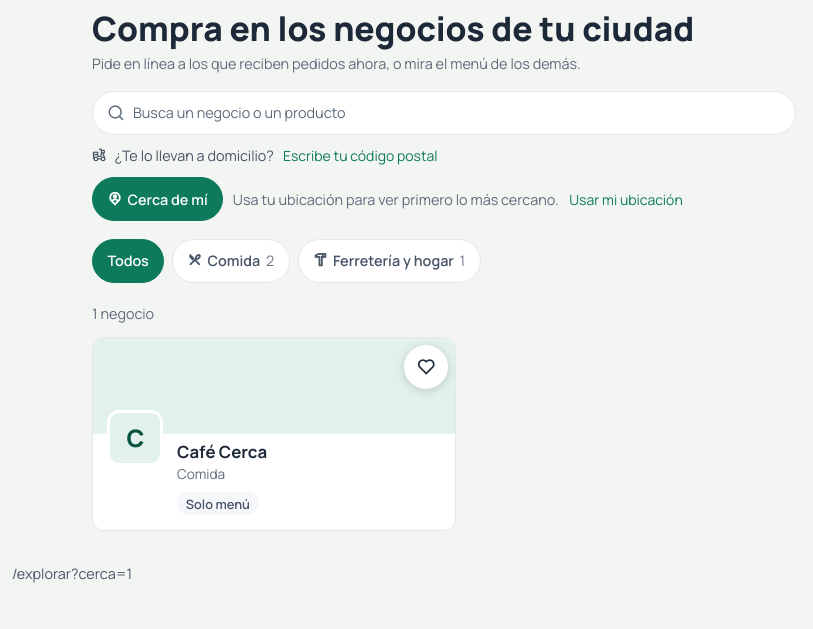
Test: ExplorePage › opened with «Cerca de mí» waits for a tap before asking, and says what to do when the browser does not tell (Fase 24G)
Click the button "Usar mi ubicación". click: click(626, 199)
box: [568,188,684,211]
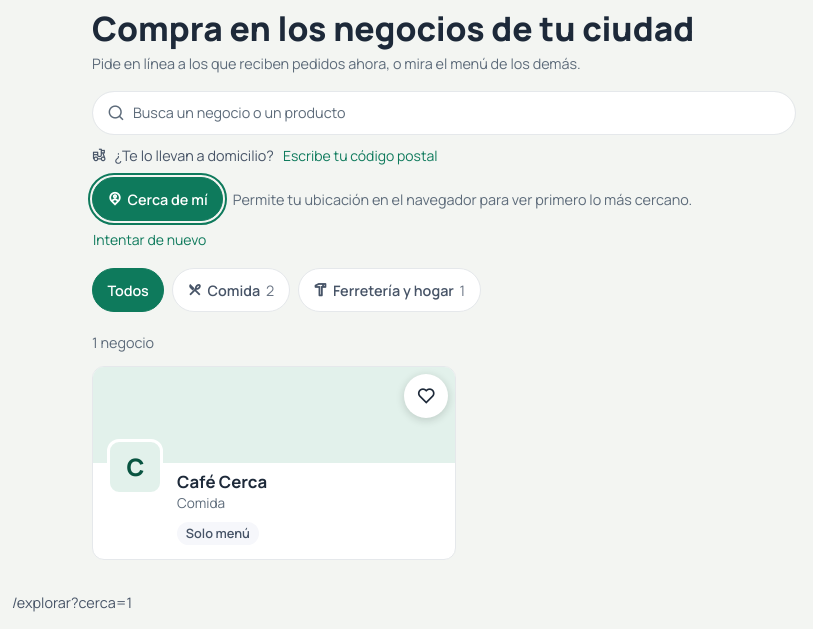
Now the text "Permite tu ubicación en el navegador para ver primero lo más cercano." is shown, box [233,189,692,210]
Click the button "Intentar de nuevo". click: click(150, 239)
box: [92,228,207,251]
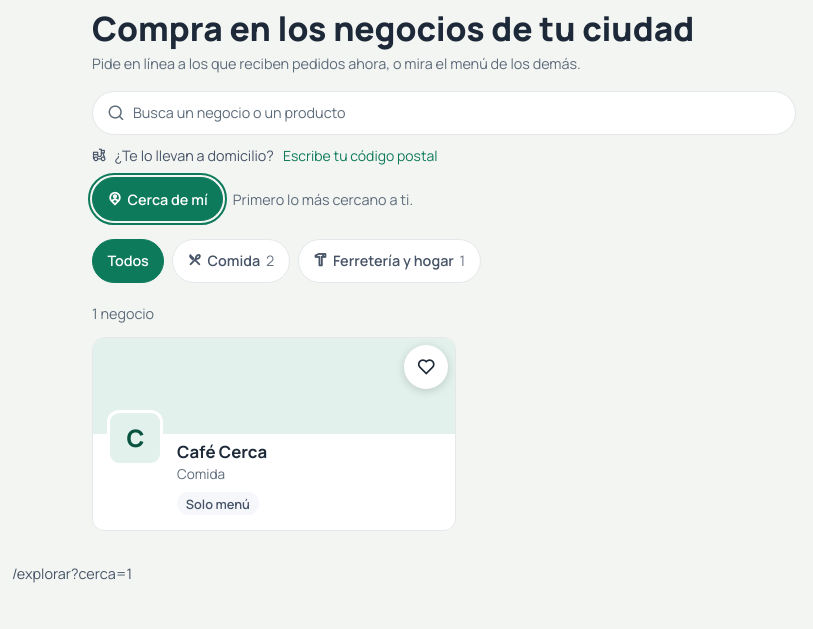
Now the button "Intentar de nuevo" is gone
